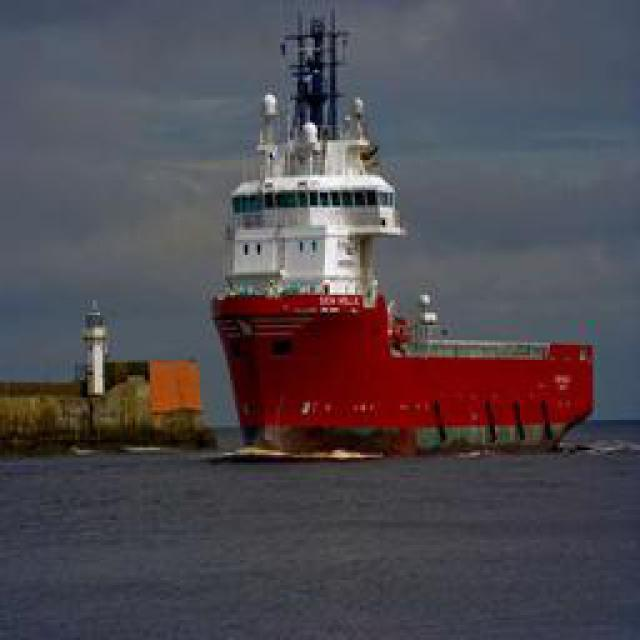Ship: (214, 12, 579, 450)
